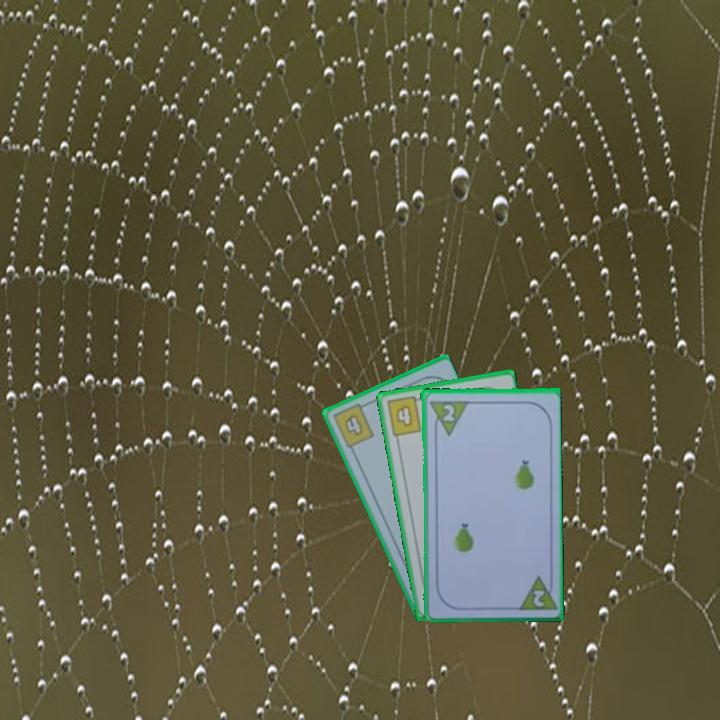2p: (513, 571, 558, 613), (439, 400, 457, 424)
4b: (329, 399, 377, 451), (382, 393, 426, 439)
